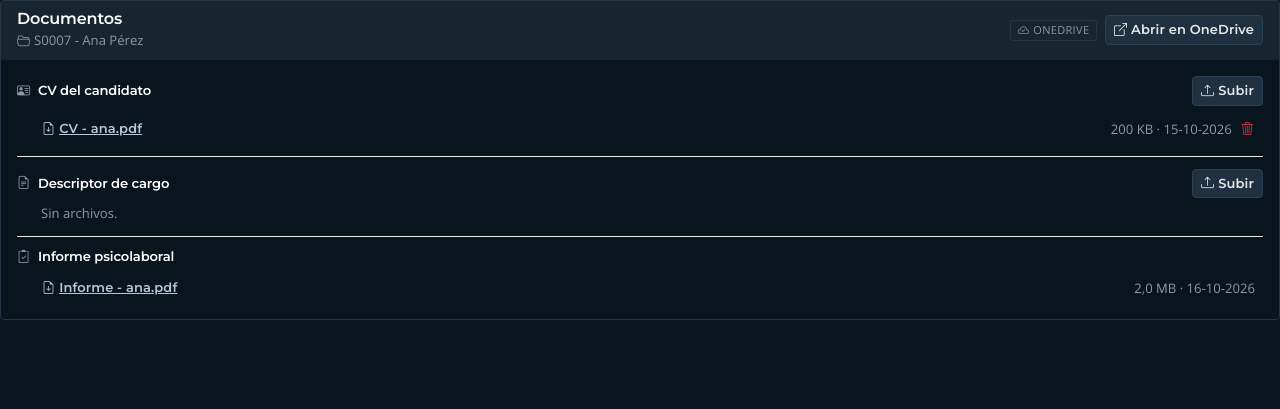
Test case: PanelDocumentos › descarga y elimina (con confirmación)
Click the button "CV - ana.pdf". click: (92, 129)
box: [41,118,143,139]
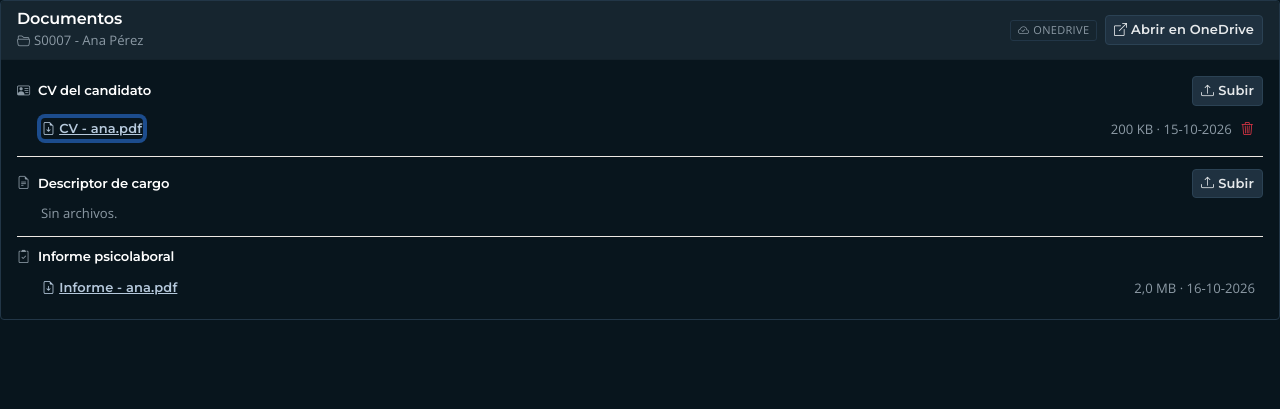
Click the button named "Eliminar CV - ana.pdf". click: (1247, 129)
box: [1240,118,1255,139]
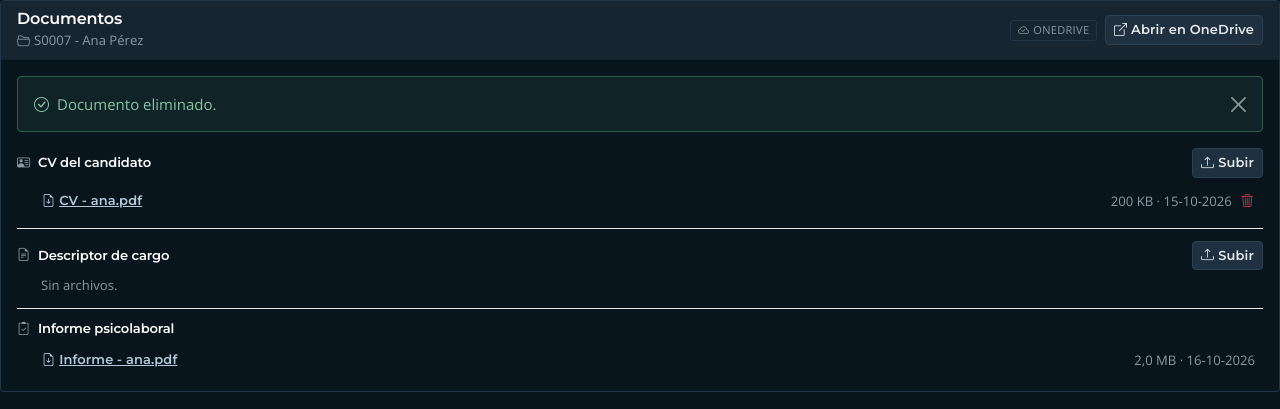
Result: the text "Documento eliminado." is shown at [57,94,216,114]
